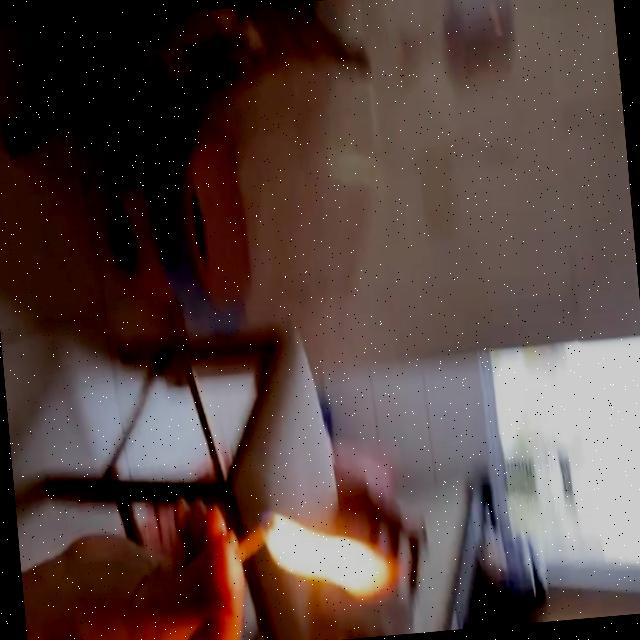fire: (254, 494, 410, 614)
